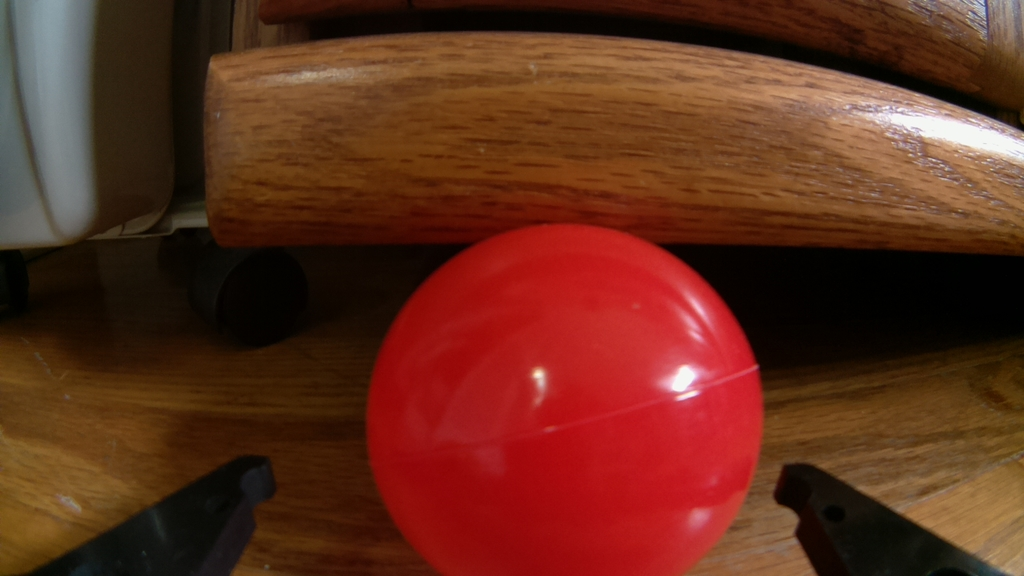ball: (359, 216, 773, 576)
